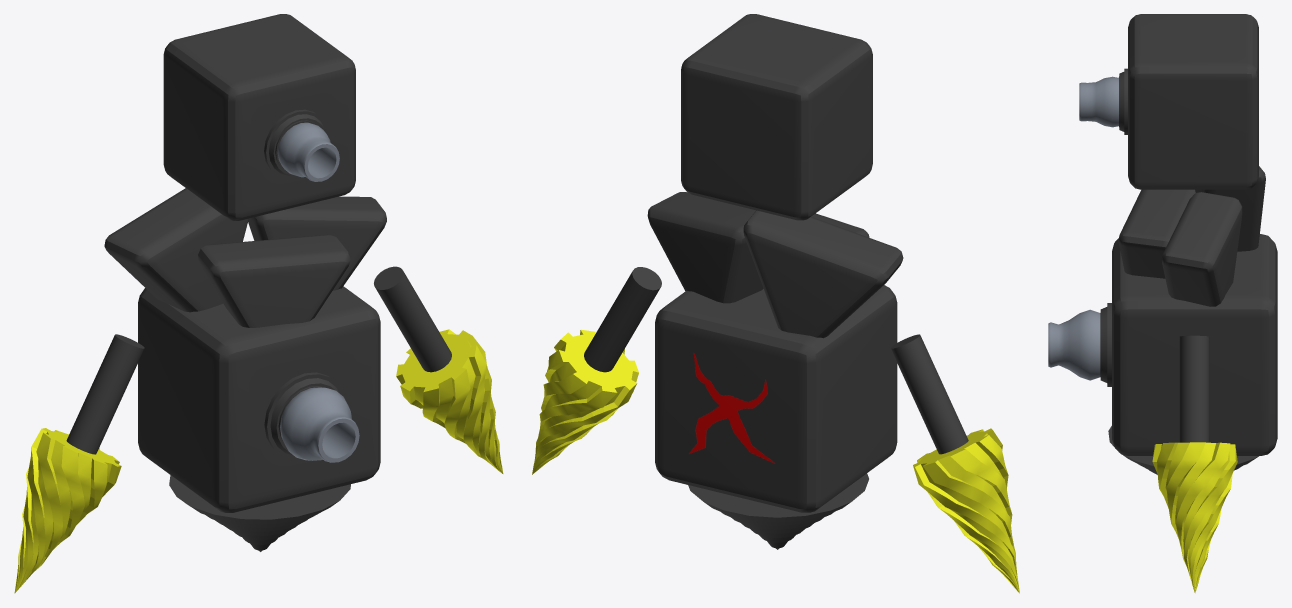
The model's file is Boss3.fbx.
The picture shows the model from 3 angles, left to right: view 1: azimuth 30°, elevation 25°; view 2: azimuth 150°, elevation 25°; view 3: azimuth 270°, elevation 25°; orthographic projection. The views are drawn at different scales.
Parts seen in each view (by area): view 1: polySurface1; view 2: polySurface1; view 3: polySurface1.
Boxes of the visible parts, x1,y1,x2,y2 form: polySurface1: (14, 14, 503, 593); polySurface1: (532, 14, 1019, 593); polySurface1: (1048, 14, 1277, 593).
Bounding box in the file's own units: 57.61 × 56.65 × 25.51.
